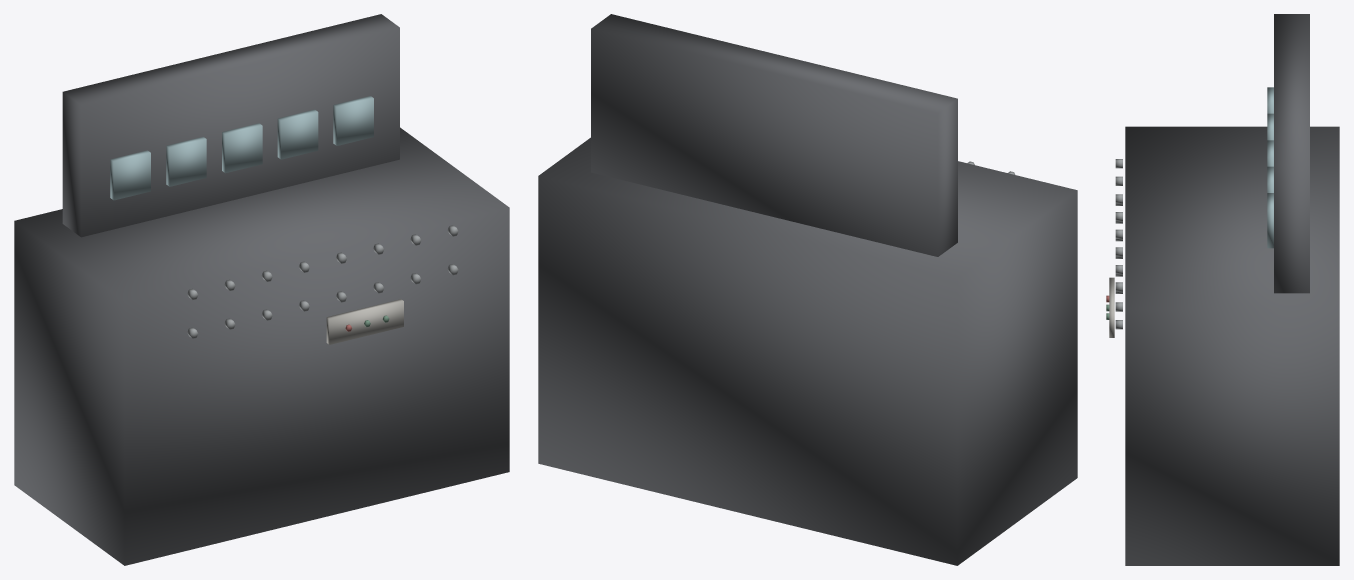
File: radio_console__tall.glb
3 renders of one model, left to right at view 1: azimuth 30°, elevation 25°; view 2: azimuth 150°, elevation 25°; view 3: azimuth 270°, elevation 25°, orthographic. The views are drawn at different scales.
Visible parts, largest first — view 1: world; view 2: world; view 3: world.
Boxes of the visible parts, box(x1,y1,x2,y2) form: world: box(14, 14, 509, 565); world: box(538, 14, 1077, 565); world: box(1106, 14, 1339, 565).
Size of the model in its own units: 1.45 by 1.43 by 0.7835.
